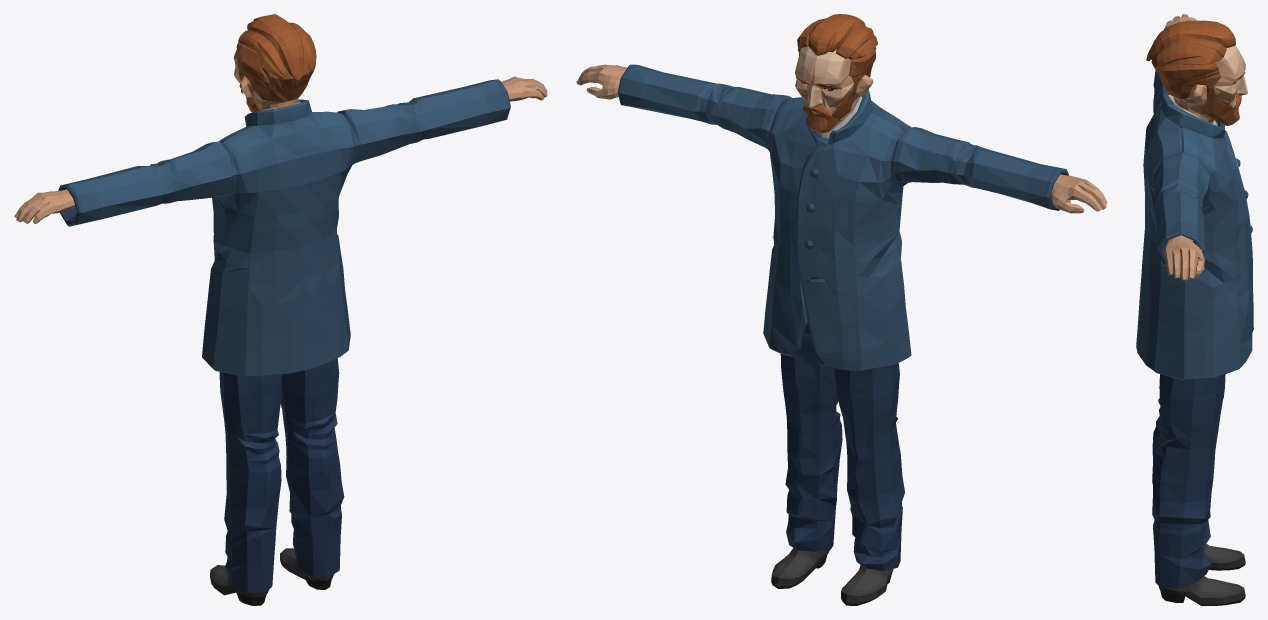
File: NPC_AP31ArtistBlue.glb
The picture shows the model from 3 angles, left to right: view 1: azimuth 30°, elevation 25°; view 2: azimuth 150°, elevation 25°; view 3: azimuth 270°, elevation 25°; orthographic projection.
Visible parts, largest first — view 1: NPC_AP31ArtistBlue; view 2: NPC_AP31ArtistBlue; view 3: NPC_AP31ArtistBlue.
Part boxes in pixels (x1,y1,x2,y2): NPC_AP31ArtistBlue: (14, 14, 547, 605); NPC_AP31ArtistBlue: (576, 14, 1107, 605); NPC_AP31ArtistBlue: (1136, 14, 1253, 605).
Bounding box in the file's own units: 13.75 × 13.94 × 2.66.
Materials: 1 (1 with a texture image).
